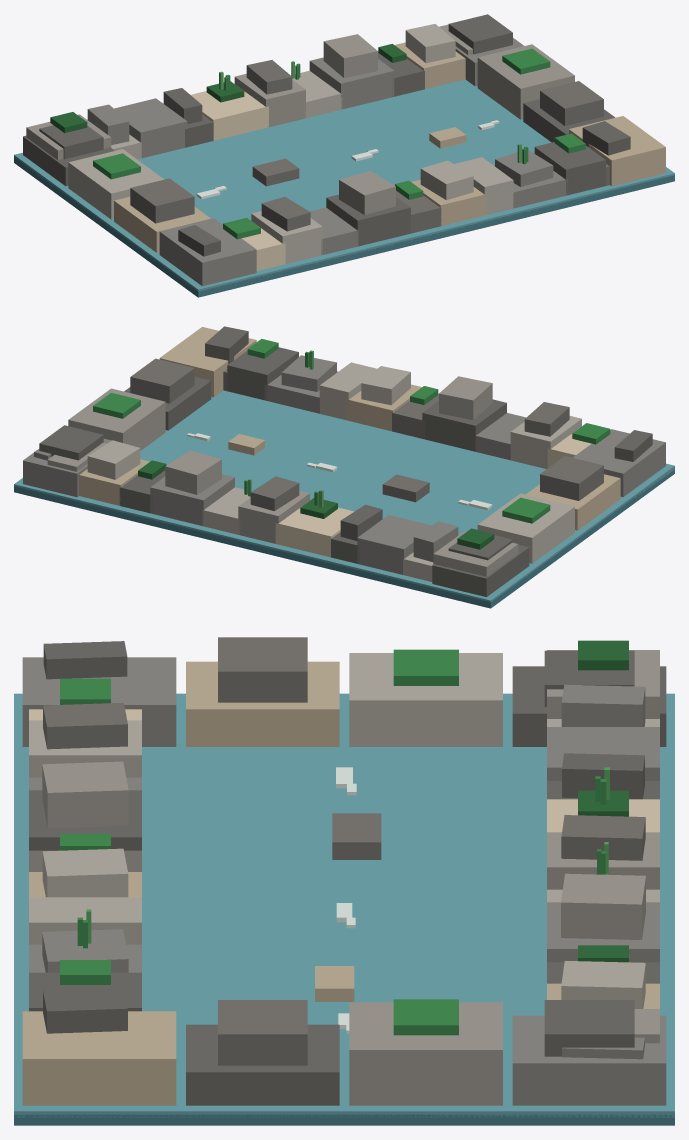
File: vn_river_6x4.glb
3 views of the same model, one above another, from view 1: azimuth 30°, elevation 25°; view 2: azimuth 150°, elevation 25°; view 3: azimuth 270°, elevation 25° (orthographic). The views are drawn at different scales.
Visible parts, largest first — view 1: Water.001, EdgeNZ_2.001, EdgePZ_2.001, EdgeNZ_4, EdgePZ_4, EdgePZ_3, EdgeNZ_1.001, EdgePZ_1.001, EdgePX_1.001, EdgeNX_2.001, EdgeNX_3, EdgeNX_1.001 (+10 smaller); view 2: Water.001, EdgeNZ_2.001, EdgeNZ_4, EdgePZ_2.001, EdgePZ_4, EdgePZ_3, EdgeNZ_1.001, EdgePZ_1.001, EdgeNX_1.001, EdgePX_1.001, EdgeNZ_0.001, EdgeNX_2.001 (+10 smaller); view 3: Water.001, EdgePX_1.001, EdgeNX_2.001, EdgePX_2.001, EdgeNX_1.001, EdgePX_0.001, EdgePX_3, EdgePZ_2.001, EdgeNZ_4, EdgeNZ_2.001, EdgePZ_3, EdgeNZ_1.001 (+10 smaller).
Boxes of the visible parts, box(x1,y1,x2,y2) form: Water.001: box(14, 79, 674, 297); EdgeNZ_2.001: box(190, 60, 305, 140); EdgePZ_2.001: box(326, 170, 441, 246); EdgeNZ_4: box(309, 34, 424, 109); EdgePZ_4: box(495, 133, 605, 208); EdgePZ_3: box(411, 157, 513, 225); EdgeNZ_1.001: box(114, 88, 213, 158); EdgePZ_1.001: box(251, 196, 358, 263); EdgePX_1.001: box(477, 44, 574, 119); EdgeNX_2.001: box(114, 178, 210, 252); EdgeNX_3: box(159, 218, 256, 286); EdgeNX_1.001: box(68, 149, 163, 219); Water.001: box(14, 390, 674, 608); EdgeNZ_2.001: box(238, 476, 354, 557); EdgeNZ_4: box(119, 450, 234, 525); EdgePZ_2.001: box(392, 376, 506, 451); EdgePZ_4: box(227, 339, 337, 413); EdgePZ_3: box(319, 362, 421, 431); EdgeNZ_1.001: box(331, 504, 431, 574); EdgePZ_1.001: box(475, 402, 581, 468); EdgeNX_1.001: box(477, 493, 574, 563); EdgePX_1.001: box(68, 388, 165, 450); EdgeNZ_0.001: box(403, 521, 518, 581); EdgeNX_2.001: box(526, 456, 620, 530); Water.001: box(14, 693, 674, 1125); EdgePX_1.001: box(349, 999, 502, 1105); EdgeNX_2.001: box(186, 637, 339, 746); EdgePX_2.001: box(186, 1000, 339, 1105); EdgeNX_1.001: box(349, 649, 502, 746); EdgePX_0.001: box(512, 1000, 666, 1105); EdgePX_3: box(22, 1011, 176, 1105); EdgePZ_2.001: box(29, 761, 141, 871); EdgeNZ_4: box(547, 873, 659, 983); EdgeNZ_2.001: box(547, 767, 659, 889); EdgePZ_3: box(29, 848, 141, 944); EdgeNZ_1.001: box(547, 727, 659, 799).
Bounding box in the file's own units: 4.03 × 0.47 × 2.7.
